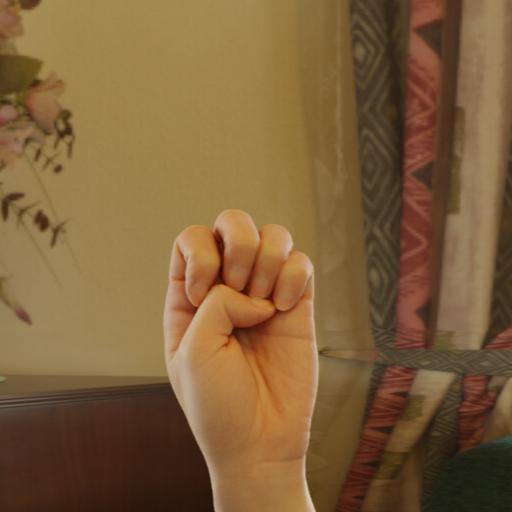E: (156, 208, 330, 456)
